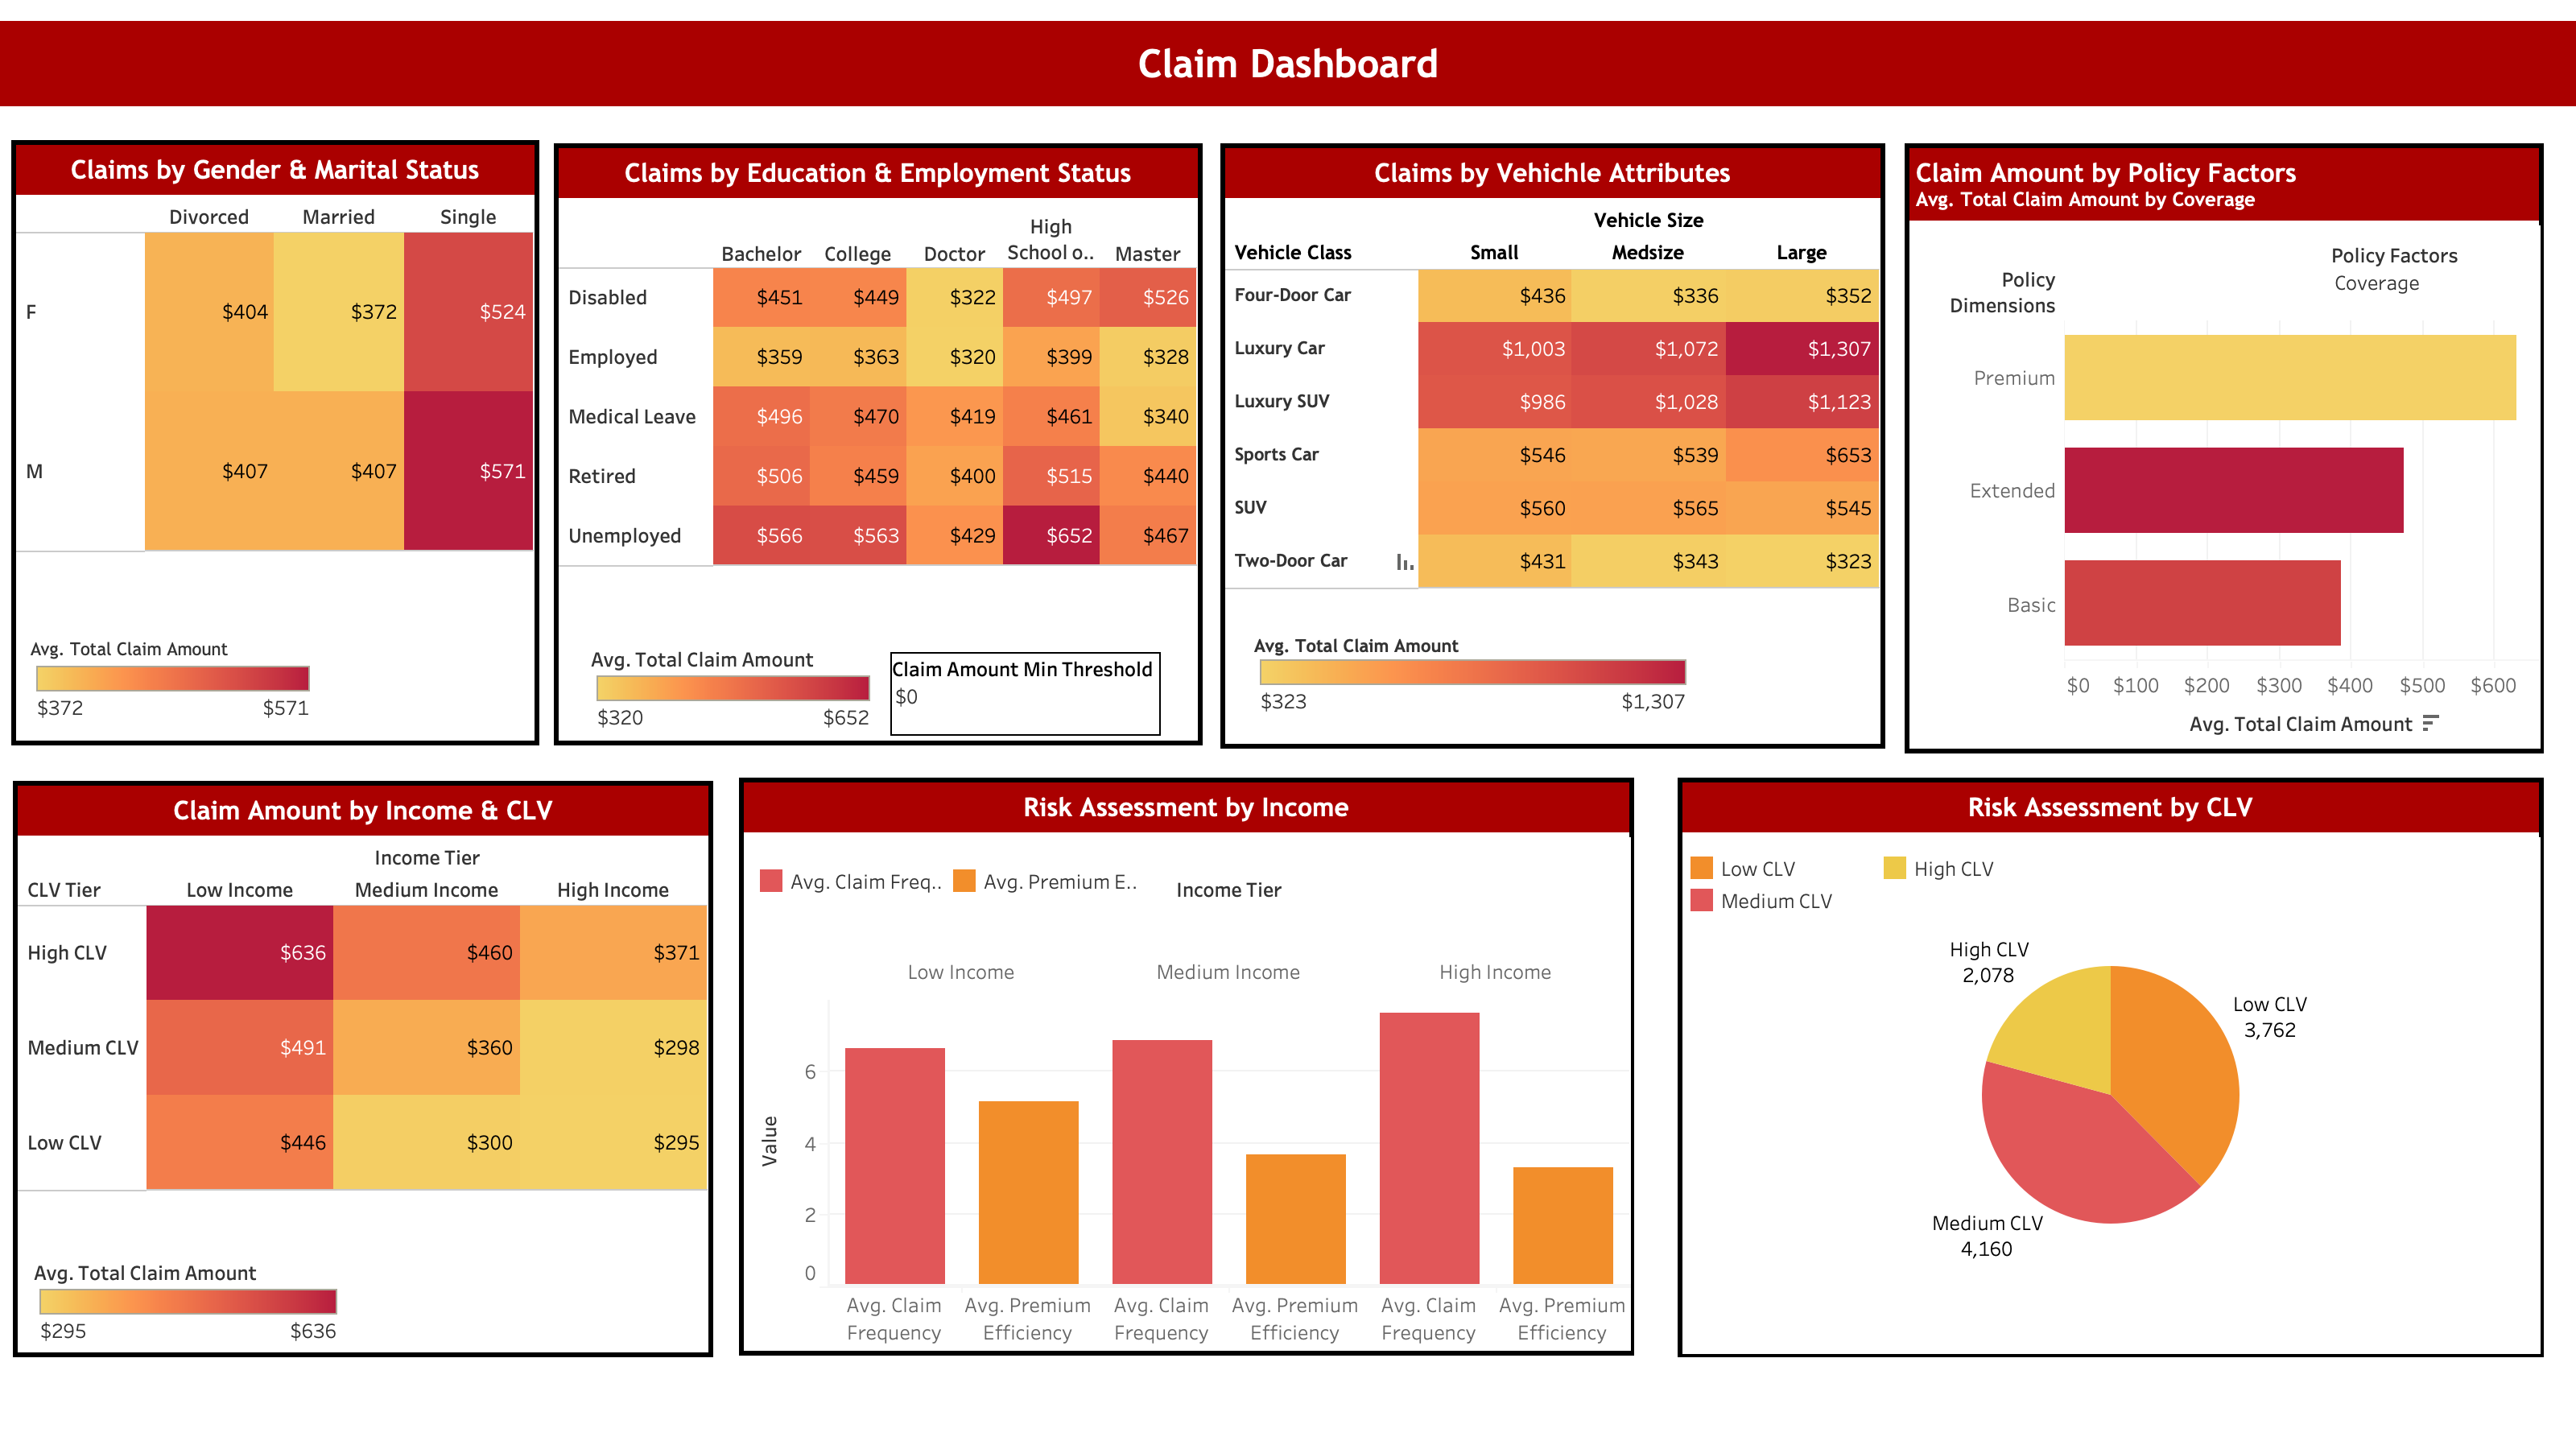

Layout of this report page (visuals, bound fields, positions):
{"tool":"tableau","page":{"name":"Claim Dashboard","canvas":[1600,900],"ordinal":0},"visuals":[{"type":"text","box":[0,13,1601,53]},{"type":"worksheet","title":"Total Claim Amount by Gender & Martial Status","mark":"Square","rows":["Gender"],"cols":["Marital Status"],"box":[7,87,328,376]},{"type":"worksheet","title":"Total Claim Amount by Education & Employeement Status","mark":"Square","rows":["EmploymentStatus"],"cols":["Education"],"box":[344,89,403,374]},{"type":"worksheet","title":"Total Claim Amount by Vehicle Attributes","mark":"Square","rows":["Vehicle Class"],"cols":["Vehicle Size"],"box":[758,89,413,376]},{"type":"worksheet","title":"Total Claim Amount by Policy Factors","mark":"Automatic","rows":["Calculation_3617586833266368514"],"cols":["Total Claim Amount"],"box":[1183,89,397,379]},{"type":"parameter","param":"[Parameters].[Parameter 5]","box":[1448,149,124,46]},{"type":"legend","title":"Total Claim Amount by Vehicle Attributes","param":"[federated.0a2doyq1ttyagn16glot705c4hww (copy)].[avg:Total Claim Amount:qk]","box":[779,390,273,56]},{"type":"legend","title":"Total Claim Amount by Gender & Martial Status","param":"[federated.0ag3jjn0y3dh3e12onjd30uvajaq (copy 2)].[avg:Total Claim Amount:qk]","box":[19,391,178,58]},{"type":"legend","title":"Total Claim Amount by Education & Employeement Status","param":"[federated.0a2doyq1ttyagn16glot705c4hww (copy 3)].[avg:Total Claim Amount:qk]","box":[367,397,178,57]},{"type":"parameter","param":"[Parameters].[Parameter 1]","box":[553,405,168,52]},{"type":"worksheet","title":"Risk Assessment by Income","mark":"Automatic","cols":["Calculation_6025745994283339776"],"box":[459,483,556,359]},{"type":"worksheet","title":"Risk Assessment by CLV","mark":"Pie","box":[1042,483,538,360]},{"type":"worksheet","title":"Total Claim Amount by Income and CLV","mark":"Square","rows":["Calculation_5614651790759059459"],"cols":["Calculation_6025745994283339776"],"box":[8,485,435,358]},{"type":"legend","title":"Risk Assessment by CLV","param":"[federated.0a2doyq1ttyagn16glot705c4hww (copy)].[none:Calculation_56146517907590","box":[1047,529,431,40]},{"type":"legend","title":"Risk Assessment by Income","param":"[federated.0ag3jjn0y3dh3e12onjd30uvajaq (copy)].[:Measure Names]","box":[469,537,416,28]},{"type":"legend","title":"Total Claim Amount by Income and CLV","param":"[federated.0ag3jjn0y3dh3e12onjd30uvajaq (copy)].[avg:Total Claim Amount:qk]","box":[21,778,193,59]}]}

Visuals, with their boxes in screenshot pixels (x1, y1, x2, y2), scaled from the page's 1600x900 canvas onto the 2576x1449 screenshot:
text: 0,21,2575,106
"Total Claim Amount by Gender & Martial Status" worksheet (Square marks): 11,140,539,745
"Total Claim Amount by Education & Employeement Status" worksheet (Square marks): 554,143,1203,745
"Total Claim Amount by Vehicle Attributes" worksheet (Square marks): 1220,143,1885,749
"Total Claim Amount by Policy Factors" worksheet: 1905,143,2544,753
parameter: 2331,240,2531,314
"Total Claim Amount by Vehicle Attributes" legend: 1254,628,1694,718
"Total Claim Amount by Gender & Martial Status" legend: 31,630,317,723
"Total Claim Amount by Education & Employeement Status" legend: 591,639,877,731
parameter: 890,652,1161,736
"Risk Assessment by Income" worksheet: 739,778,1634,1356
"Risk Assessment by CLV" worksheet (Pie marks): 1678,778,2544,1357
"Total Claim Amount by Income and CLV" worksheet (Square marks): 13,781,713,1357
"Risk Assessment by CLV" legend: 1686,852,2380,916
"Risk Assessment by Income" legend: 755,865,1425,910
"Total Claim Amount by Income and CLV" legend: 34,1253,345,1348
